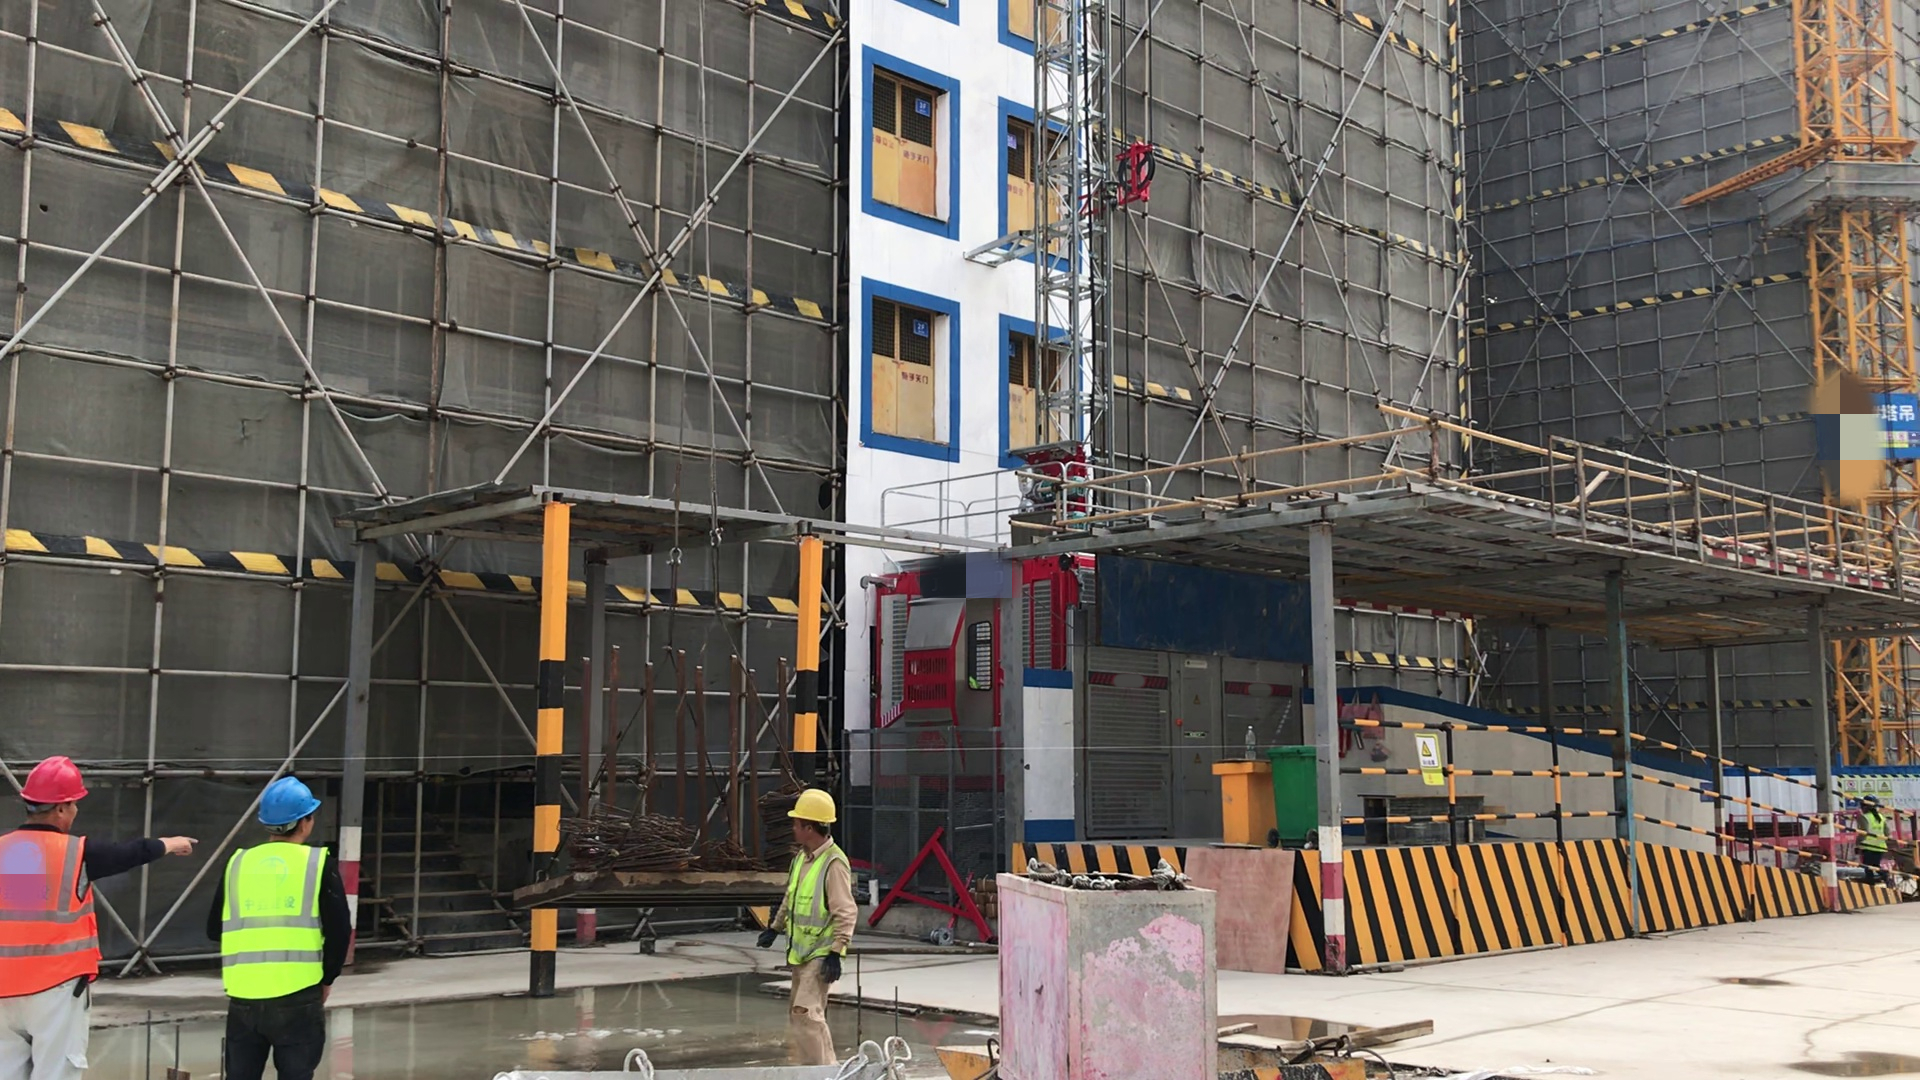fence: (1338, 698, 1897, 893)
helmet: (248, 769, 332, 832), (17, 752, 99, 809), (784, 787, 844, 829)
person: (4, 751, 203, 1080), (213, 765, 355, 1080), (753, 776, 867, 1062), (1857, 786, 1893, 870)
vest: (218, 841, 336, 1006), (1, 821, 108, 1004), (786, 840, 846, 965)
